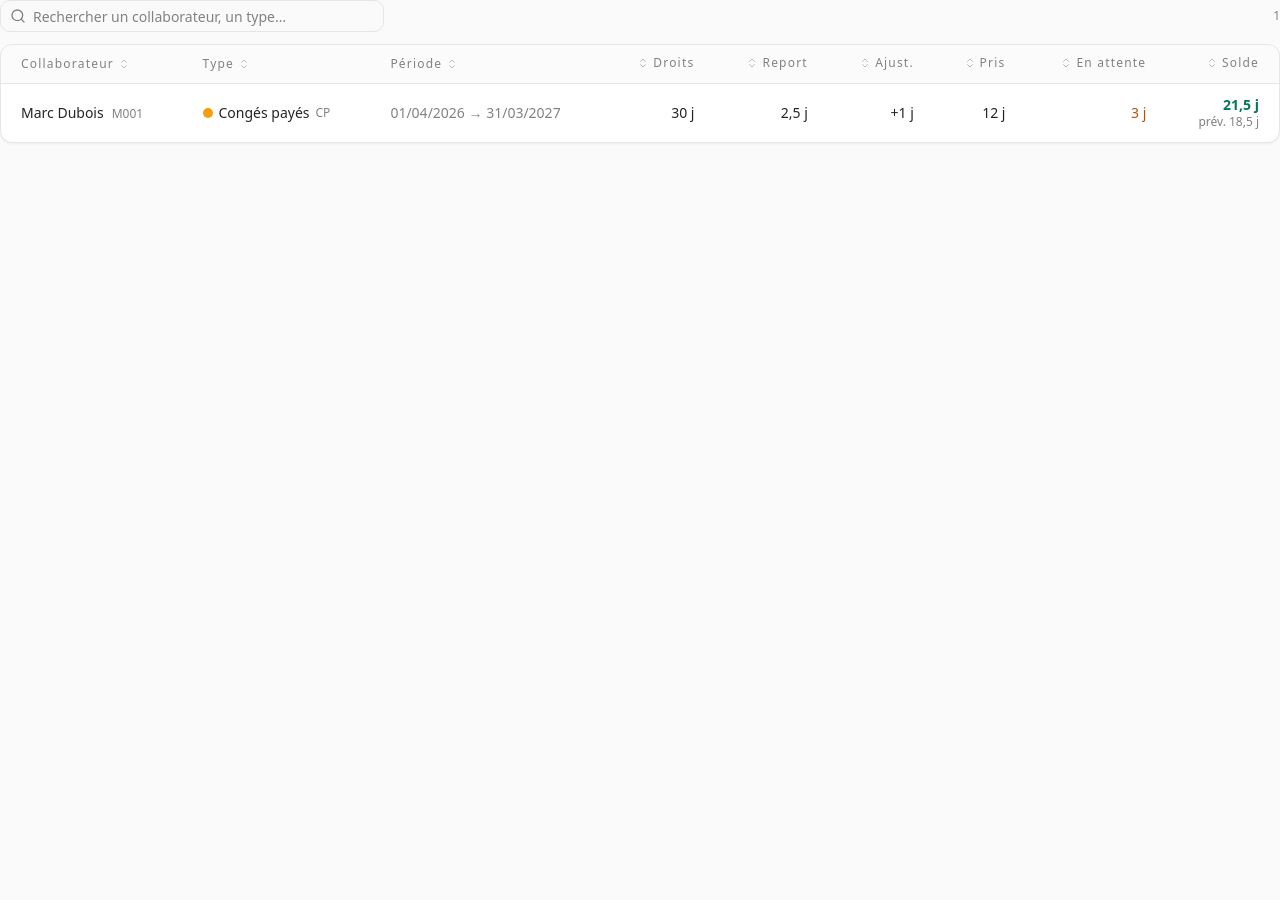
it: CompteursTable › lecture seule : pas d’action de gestion, détail des ajustements consultable
Click the button "+1 j" at (902, 113), box left=890, top=103, right=914, bottom=123
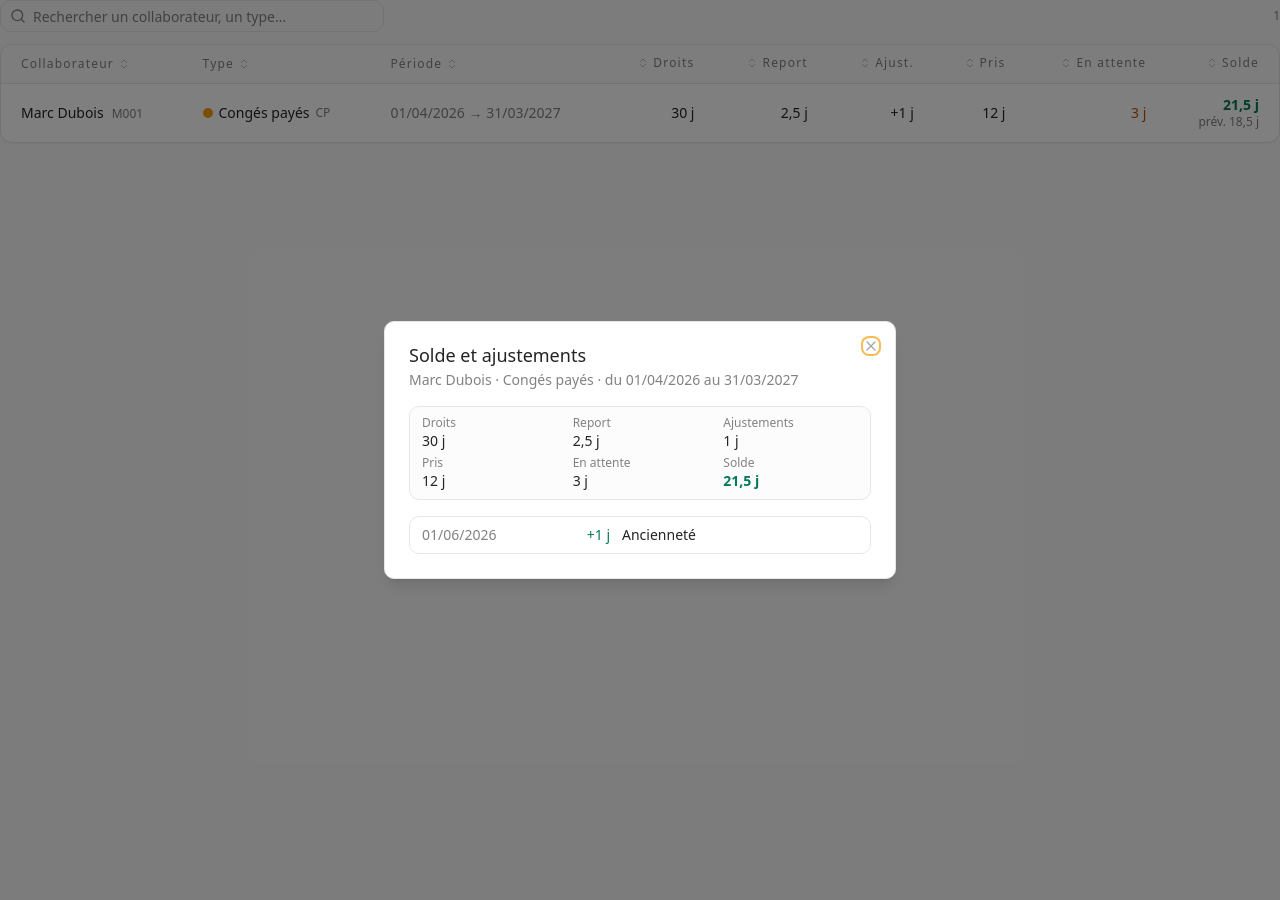
Expected: the heading "Solde et ajustements" is shown, left=409, top=343, right=586, bottom=367
Expected: the text "Ancienneté" is shown, left=622, top=525, right=696, bottom=544
